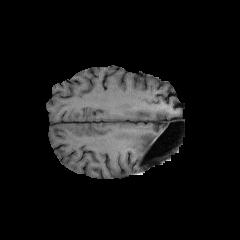glioma: (126, 132, 155, 153)
